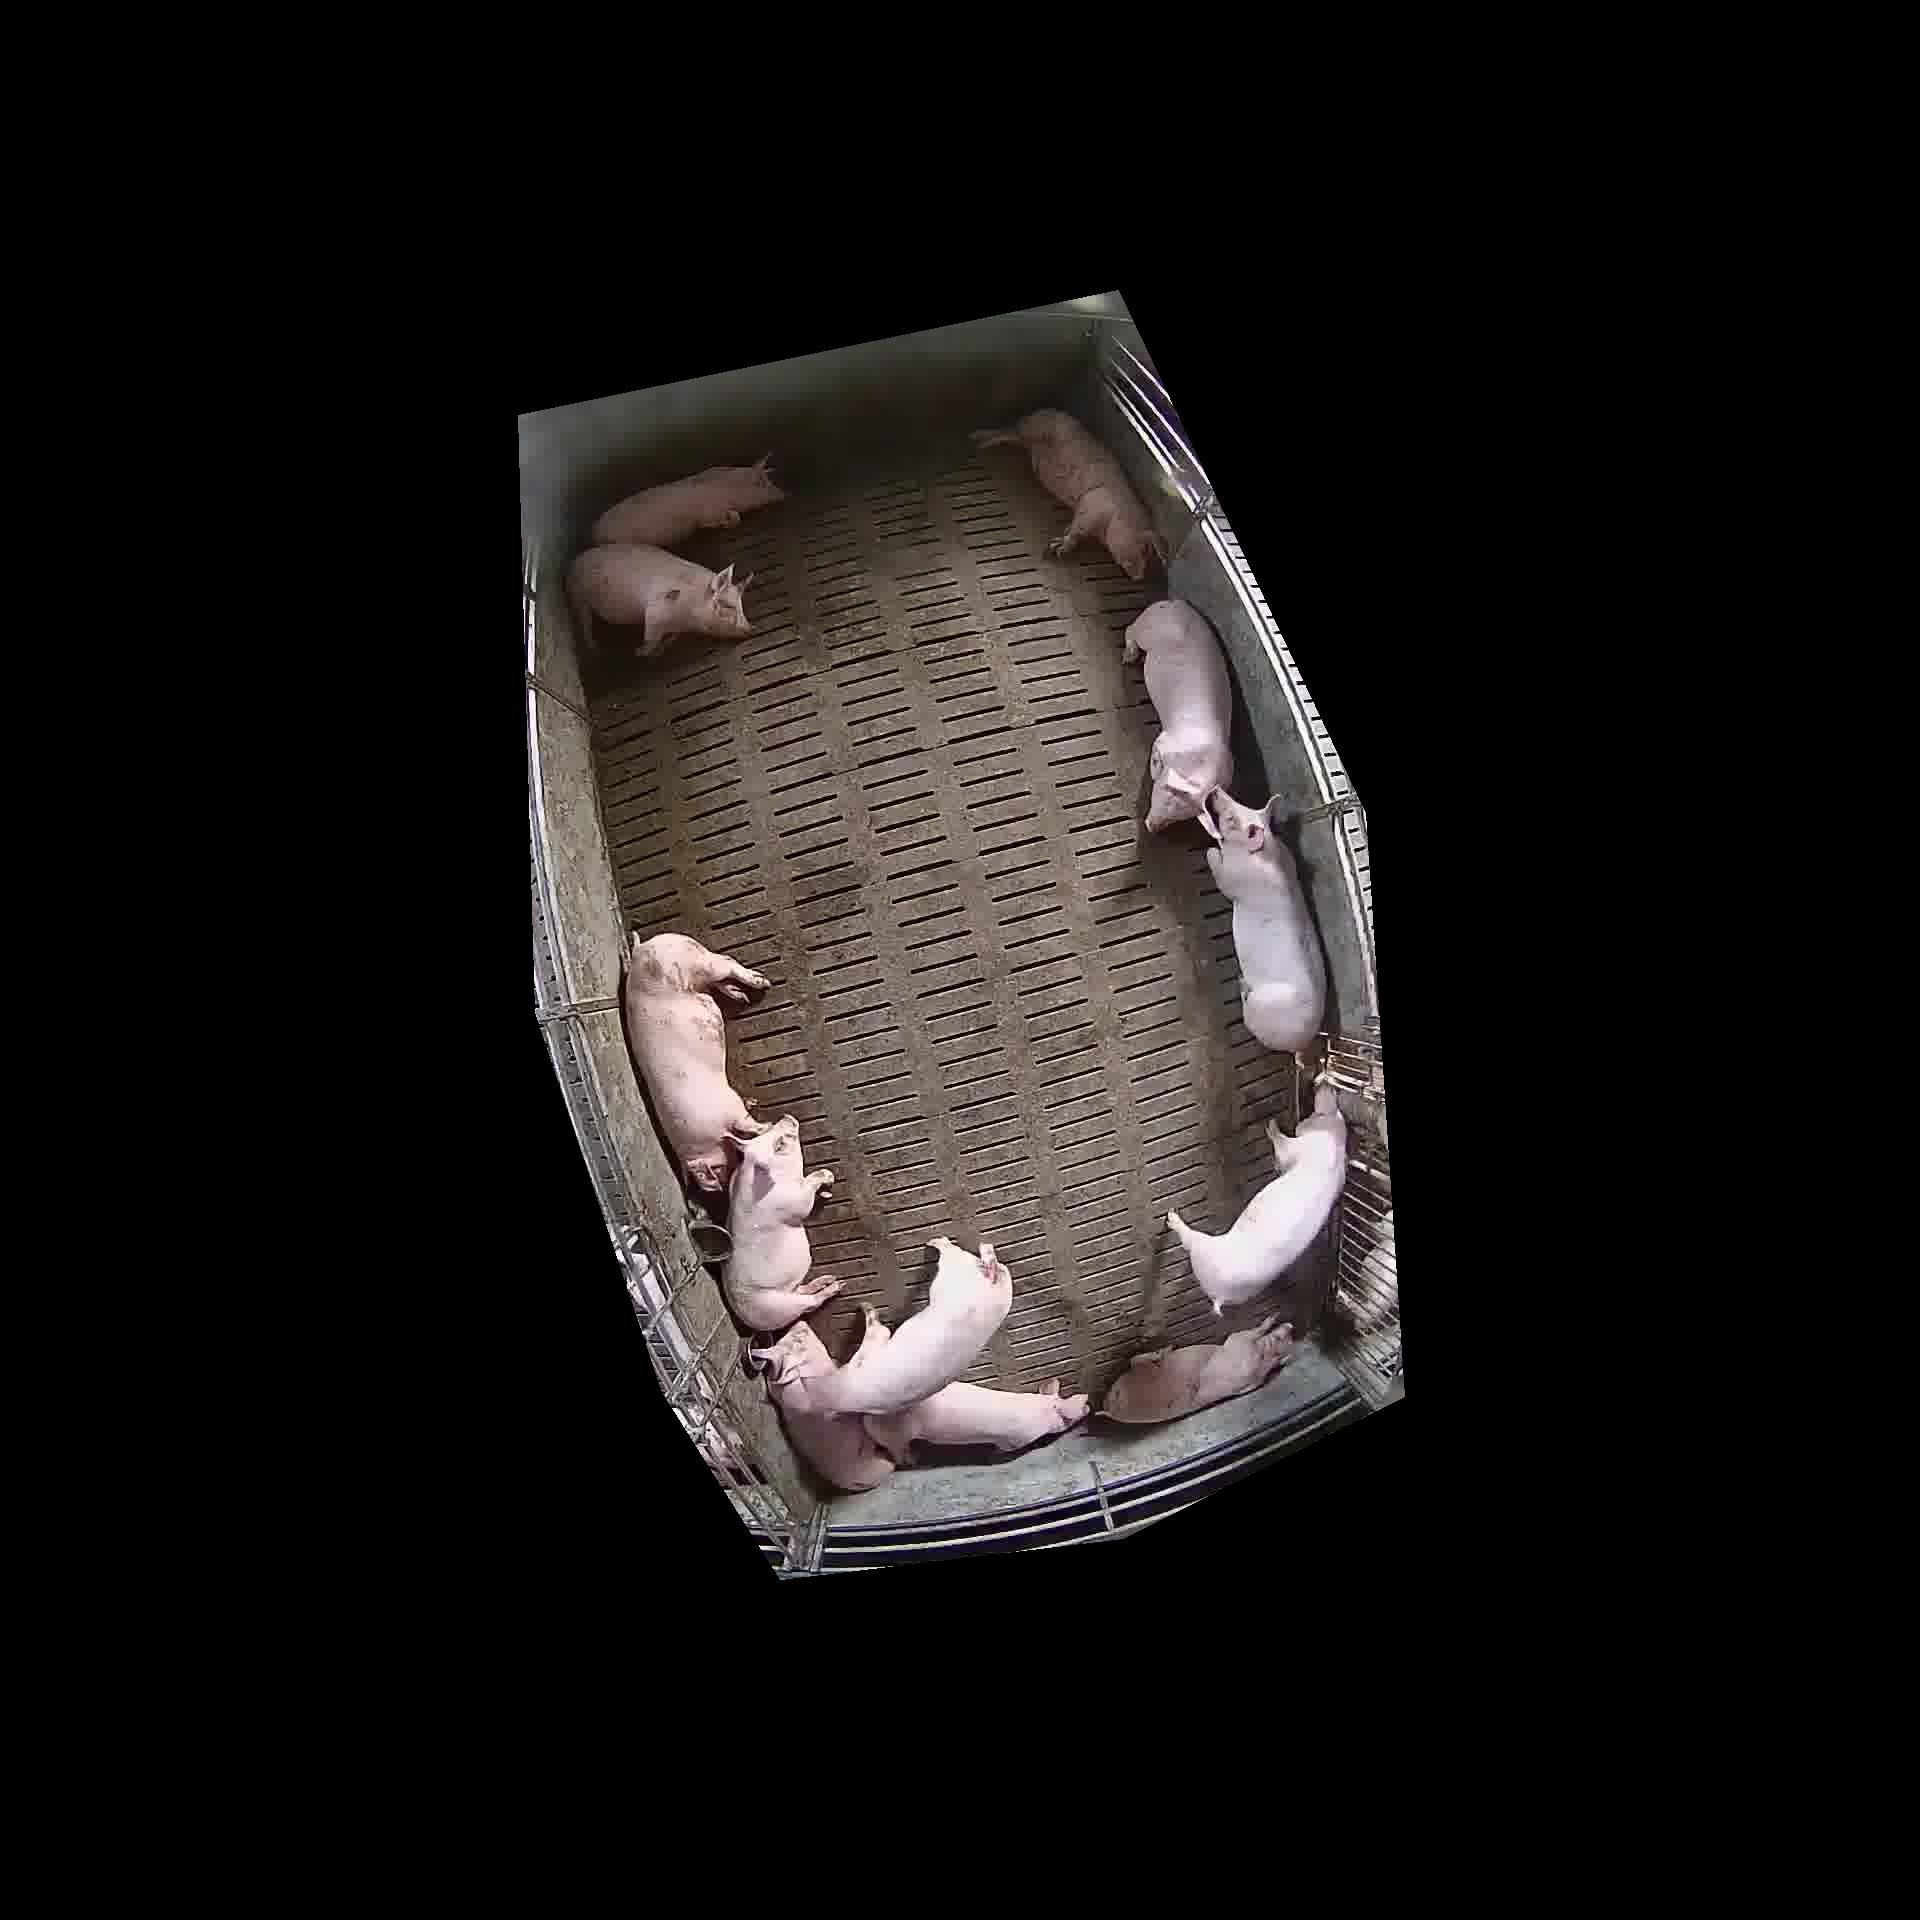pig: (758, 1238, 1013, 1415), (1167, 1083, 1345, 1312), (624, 934, 767, 1190), (1201, 788, 1326, 1051), (971, 410, 1162, 578), (1124, 600, 1233, 832), (723, 1116, 840, 1329), (566, 543, 751, 656), (1102, 1317, 1291, 1422), (863, 1378, 1087, 1463), (593, 459, 782, 547), (779, 1407, 891, 1489)
